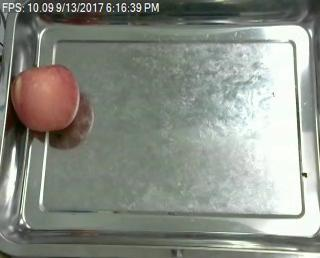apple: (11, 65, 80, 131)
